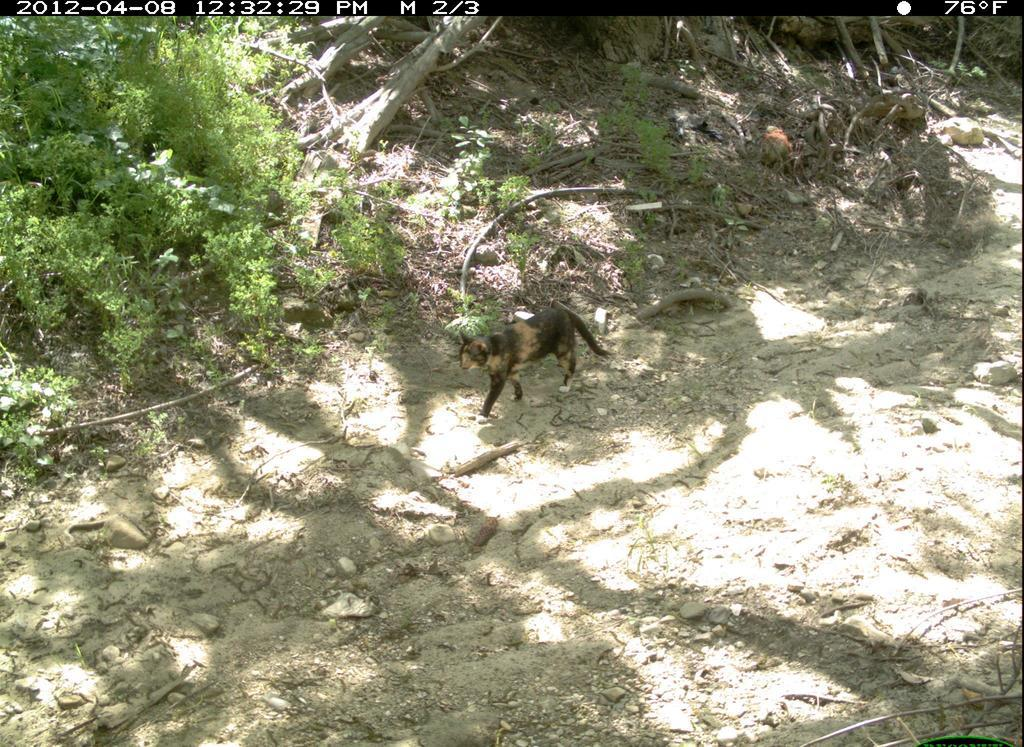cat: (450, 295, 617, 429)
